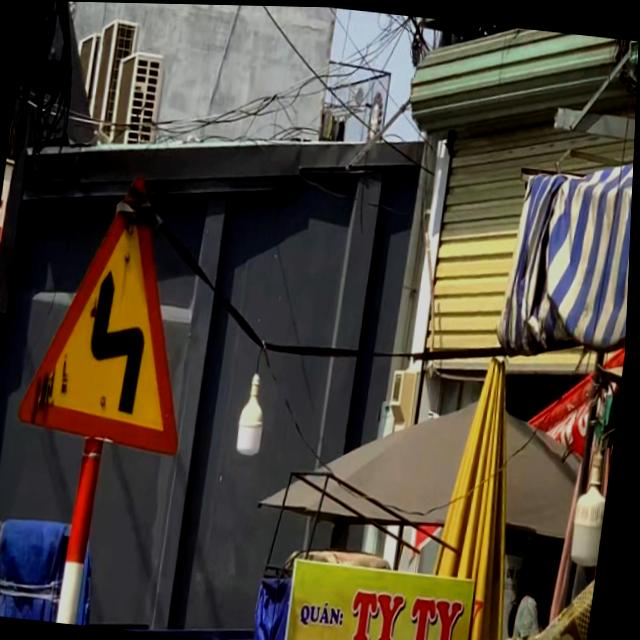Nhieu cho ngoat lien tiep ben trai: (5, 150, 227, 468)
